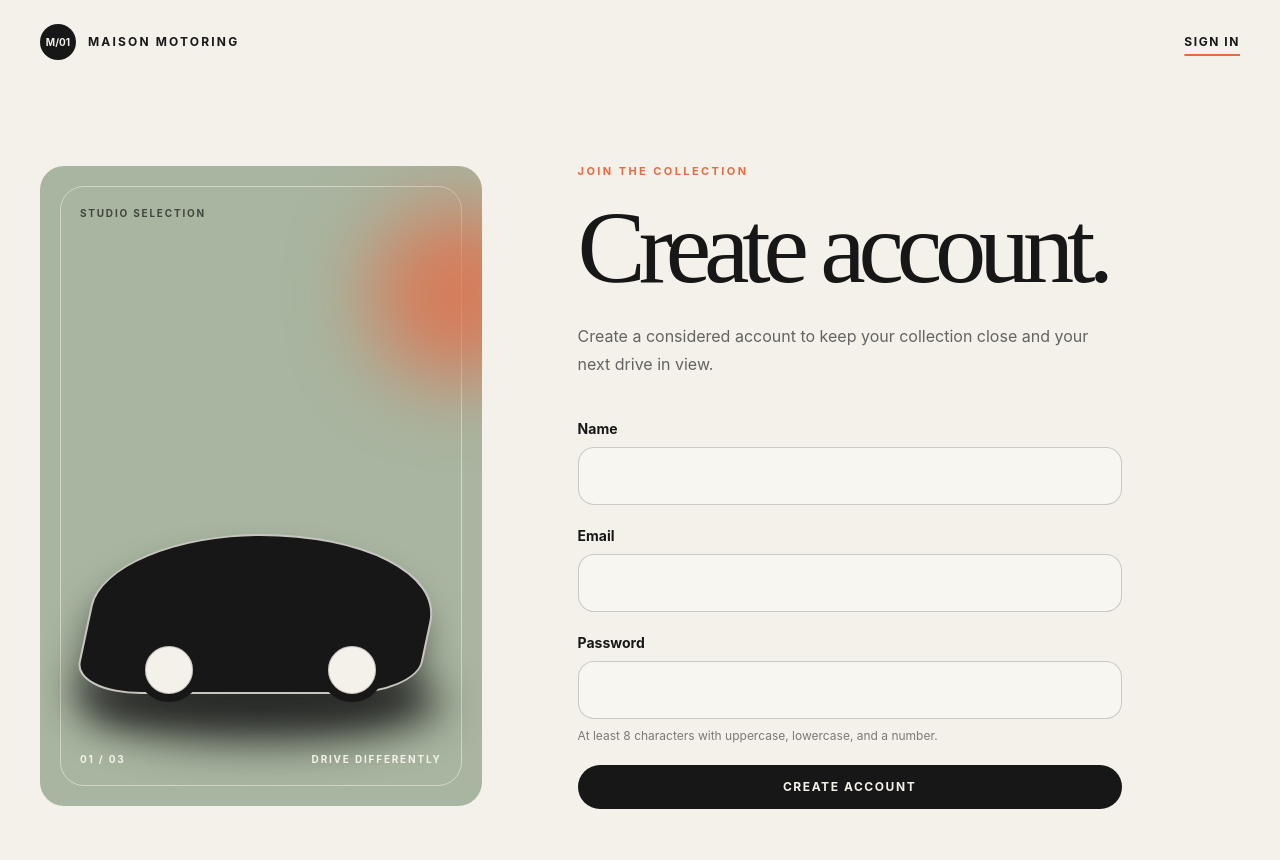
Test: frontend authentication › shows the backend duplicate-email error without exposing internals
Type "Ada Lovelace" into the field labelled "Name". click: coordinates (850, 476)
box: [578, 446, 1122, 504]
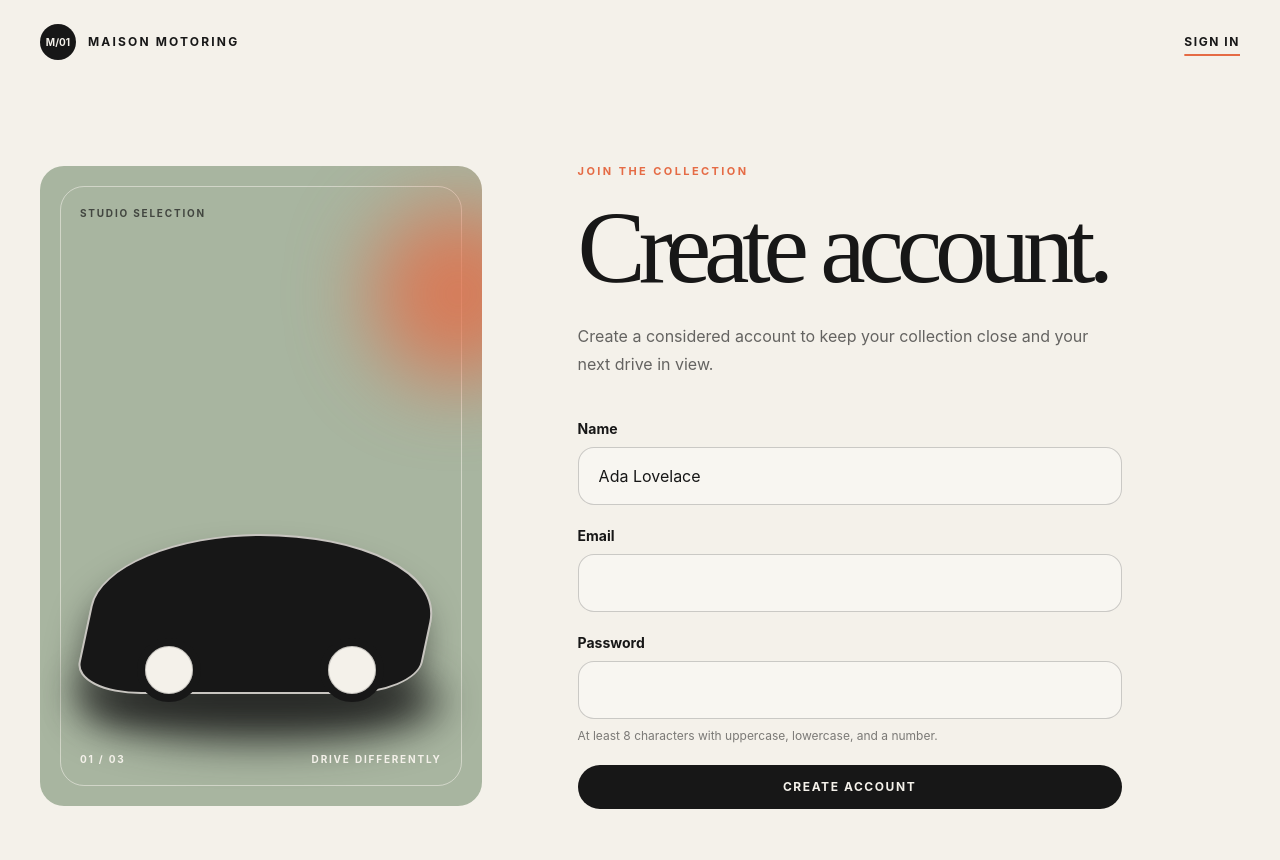
Type "ada@example.test" into the field labelled "Email". click: coordinates (850, 582)
box: [578, 554, 1122, 612]
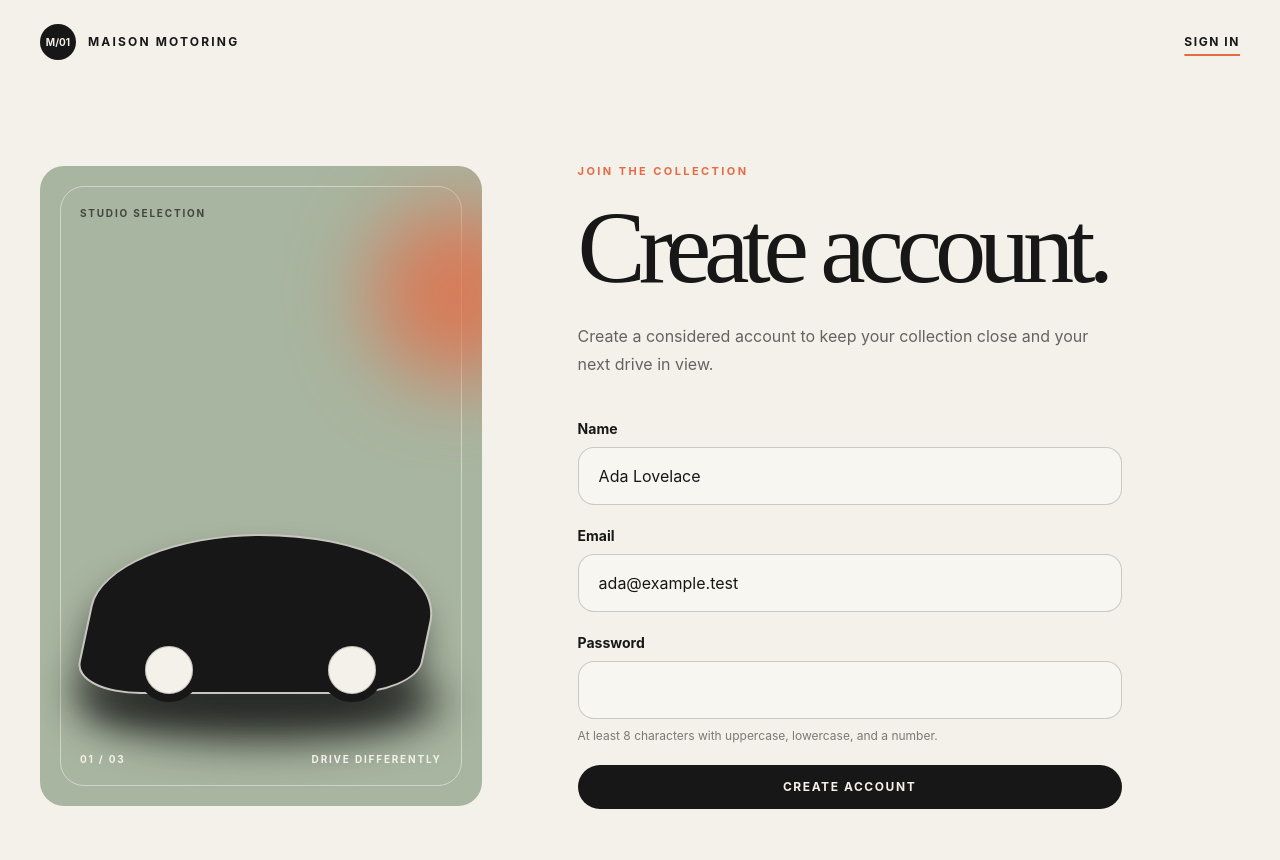
Type "SecurePass1" into the password field labelled "Password". click: coordinates (850, 690)
box: [578, 660, 1122, 718]
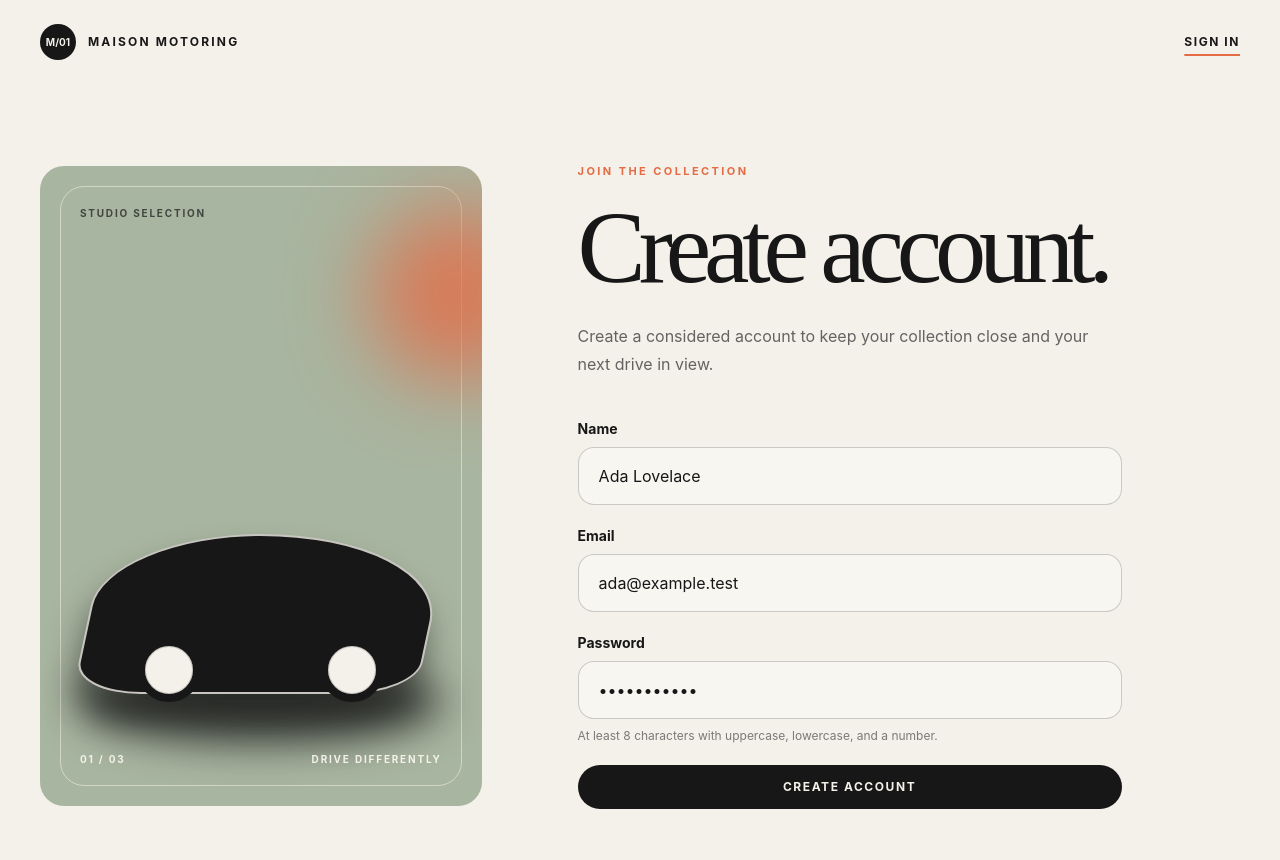
Submit the form named "registration", box [578, 418, 1122, 809]
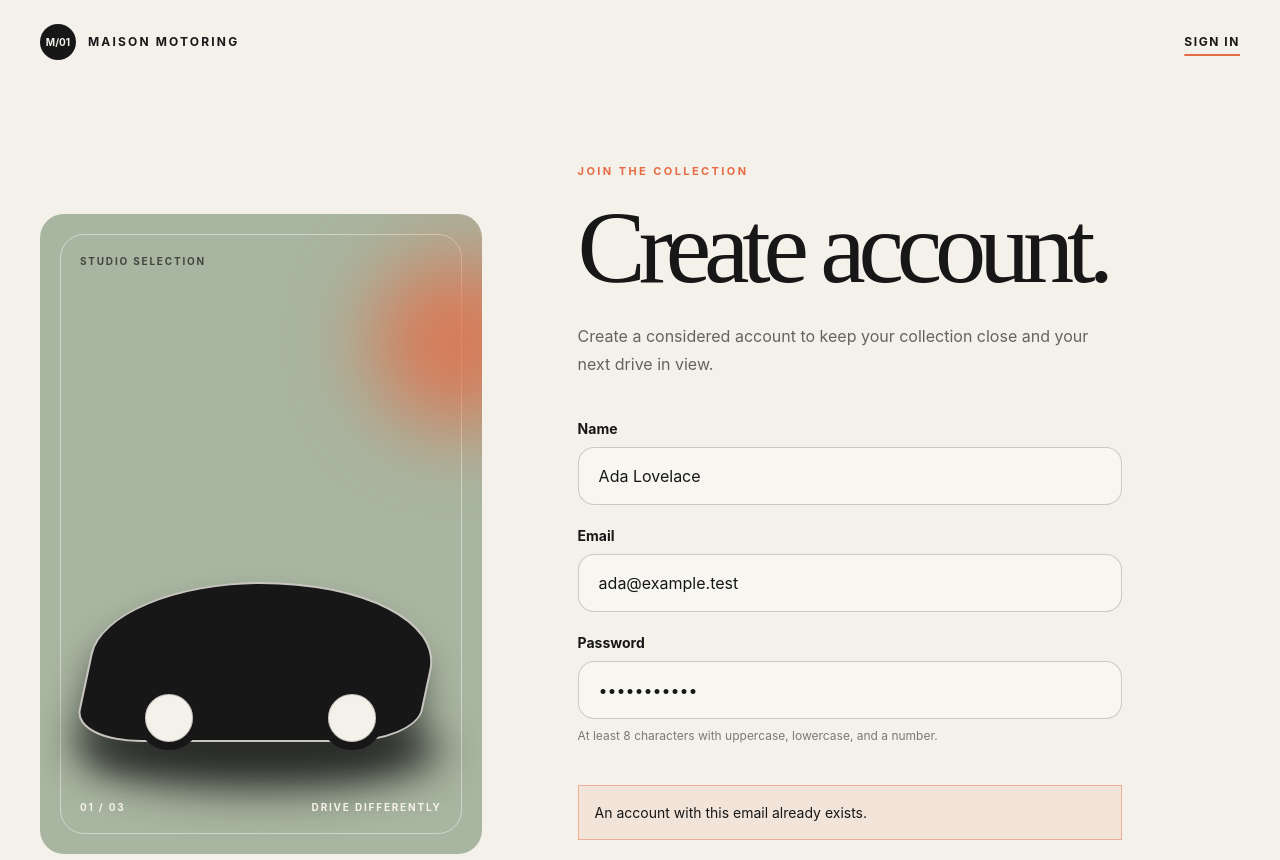
Now the message shows "account with this email already exists", box [595, 804, 867, 820]
